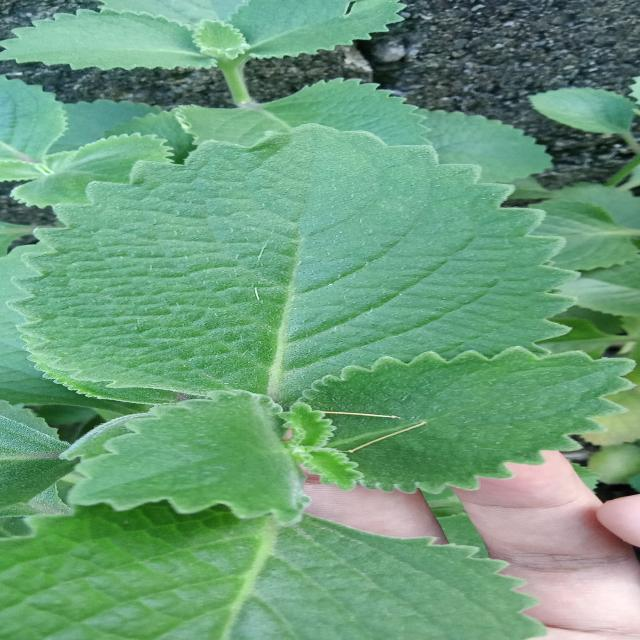Oregano: (0, 112, 623, 425)
